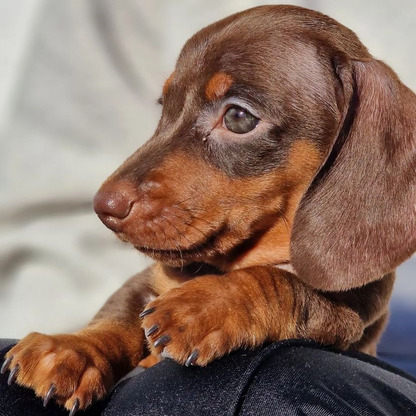dachshund: (65, 10, 395, 387)
